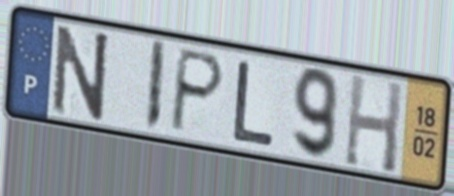9: (289, 66, 341, 162)
H: (341, 70, 406, 178)
I: (142, 37, 169, 136)
L: (229, 57, 278, 149)
N: (50, 22, 112, 123)
P: (166, 45, 228, 136)
